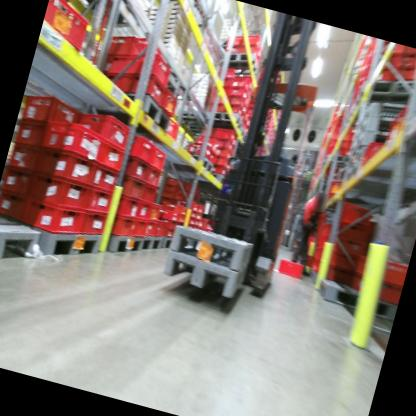pallet: (3, 211, 106, 281), (165, 219, 253, 284), (164, 244, 254, 305), (88, 80, 175, 139), (343, 134, 416, 202), (312, 271, 399, 325), (350, 61, 416, 123), (347, 109, 407, 156), (0, 220, 40, 274), (212, 45, 260, 79), (102, 226, 146, 262), (346, 124, 391, 158), (201, 104, 246, 134), (131, 229, 165, 260), (181, 150, 218, 175), (206, 168, 231, 184), (160, 236, 177, 252)
pallet_truck: (178, 8, 349, 316)
small_load_carrier: (12, 192, 88, 242), (32, 143, 100, 196), (17, 90, 80, 142), (24, 169, 92, 217), (37, 0, 95, 53), (71, 104, 134, 152), (46, 121, 107, 166), (12, 109, 67, 154), (120, 42, 173, 85), (116, 68, 169, 106), (354, 253, 407, 286), (310, 240, 358, 272), (85, 157, 121, 198), (75, 200, 109, 242), (0, 162, 35, 200), (336, 201, 377, 233), (124, 130, 160, 166), (364, 47, 403, 80), (5, 135, 38, 174), (84, 181, 116, 218), (108, 191, 142, 225), (331, 216, 369, 246), (120, 153, 153, 186), (96, 139, 127, 174), (95, 49, 129, 79), (126, 35, 162, 63), (99, 26, 133, 55), (332, 232, 365, 259), (0, 189, 25, 222), (116, 174, 146, 201), (276, 257, 306, 283), (108, 211, 135, 237), (239, 30, 264, 54), (159, 89, 181, 115), (159, 112, 182, 136), (237, 41, 262, 63), (187, 139, 214, 159), (211, 124, 238, 144), (159, 207, 188, 225), (143, 163, 163, 189), (208, 136, 234, 154), (229, 74, 252, 94), (205, 161, 229, 180), (397, 50, 416, 74), (149, 147, 168, 171), (211, 146, 235, 164), (161, 198, 186, 214), (146, 200, 163, 223), (136, 199, 153, 221), (131, 218, 150, 237), (140, 181, 157, 202), (223, 101, 243, 118), (229, 85, 250, 100), (227, 95, 246, 110), (209, 153, 229, 166), (151, 218, 165, 233), (163, 226, 177, 241), (183, 199, 199, 211), (146, 221, 156, 238), (195, 202, 204, 212), (188, 216, 195, 226), (193, 217, 200, 227), (190, 210, 197, 217), (196, 211, 202, 219)
